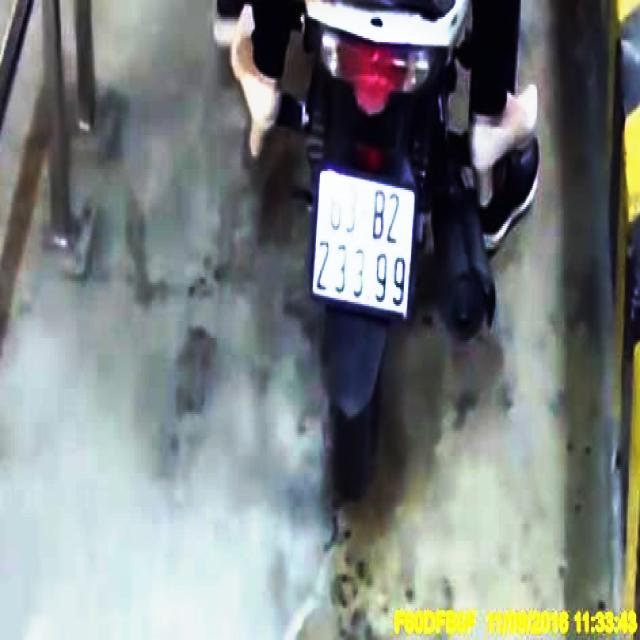license_plate: (311, 166, 421, 328)
